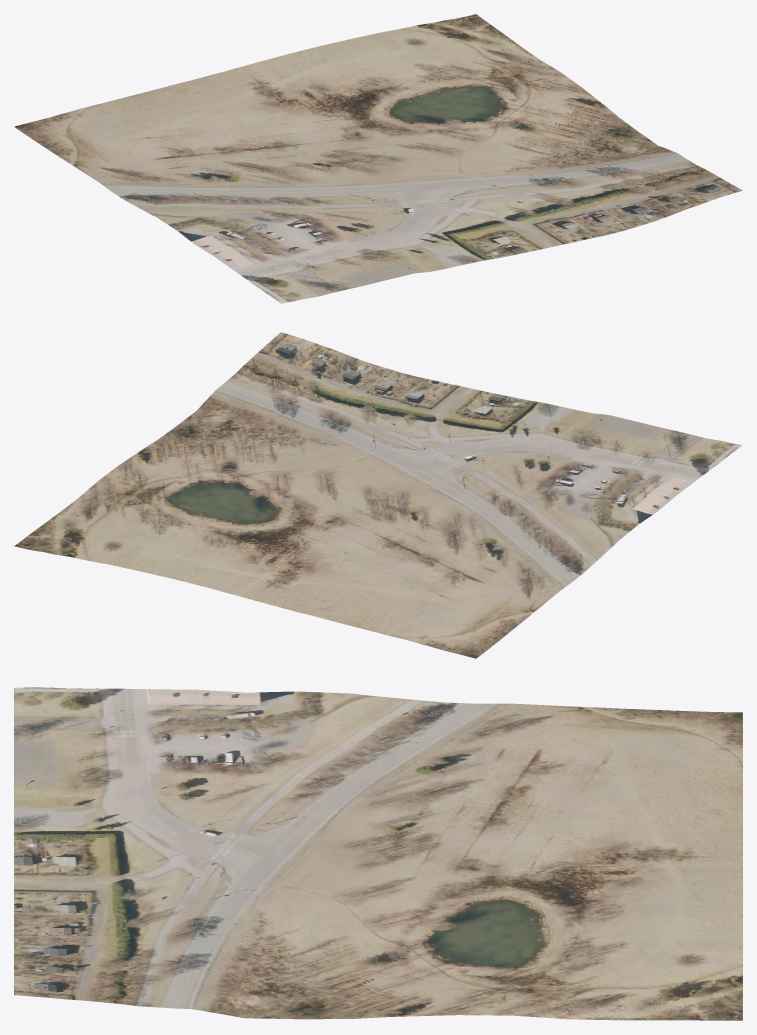
Rendered from CM_Terrain_24489844_6818975.fbx.
The picture shows the model from 3 angles, top to bottom: view 1: azimuth 30°, elevation 25°; view 2: azimuth 150°, elevation 25°; view 3: azimuth 270°, elevation 25°; orthographic projection. The views are drawn at different scales.
Parts seen in each view (by area): view 1: CM_Terrain_24489844_6818975_LOD0; view 2: CM_Terrain_24489844_6818975_LOD0; view 3: CM_Terrain_24489844_6818975_LOD0.
Boxes of the visible parts, bbox=[...] form: CM_Terrain_24489844_6818975_LOD0: bbox=[14, 14, 742, 303]; CM_Terrain_24489844_6818975_LOD0: bbox=[14, 332, 742, 658]; CM_Terrain_24489844_6818975_LOD0: bbox=[14, 687, 742, 1020].
Size of what is drawn, in the model's own units: 205 by 7.99 by 205.
